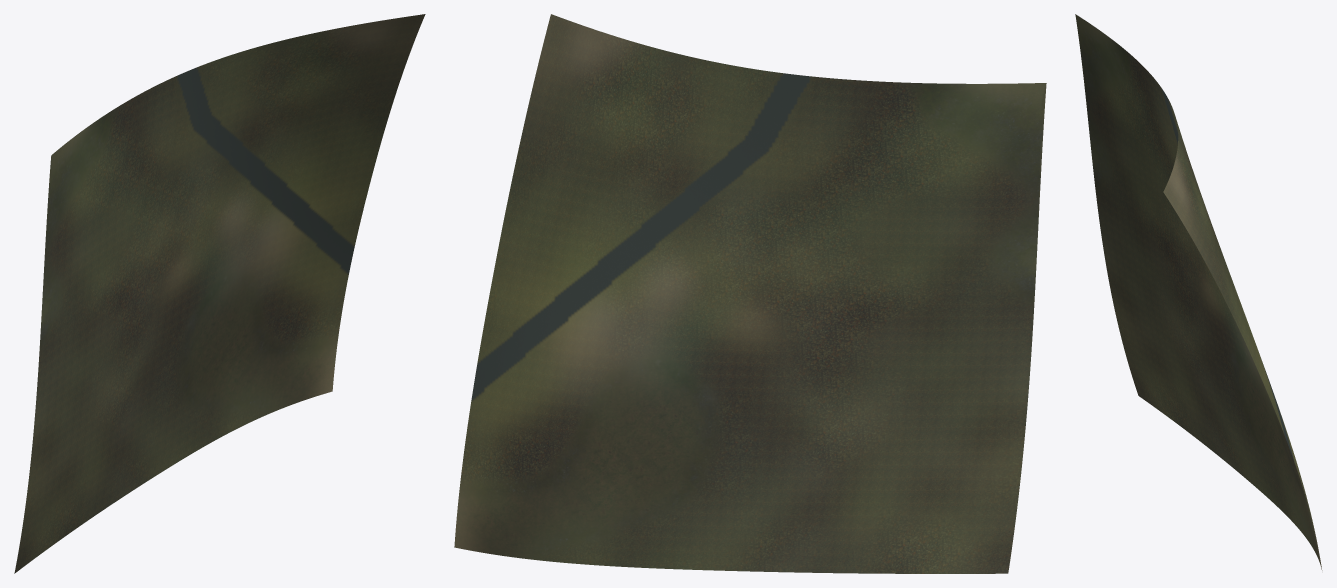
The model's file is ground_core_00_06.obj.
3 views of the same model, side by side, from view 1: azimuth 30°, elevation 25°; view 2: azimuth 150°, elevation 25°; view 3: azimuth 270°, elevation 25° (orthographic). The views are drawn at different scales.
Visible parts, largest first — view 1: ground_core_00_06; view 2: ground_core_00_06; view 3: ground_core_00_06.
Boxes of the visible parts, <box> form: ground_core_00_06: <box>14,14,425,573</box>; ground_core_00_06: <box>454,14,1046,573</box>; ground_core_00_06: <box>1075,14,1322,570</box>.
Size of the model in its own units: 50 by 50 by 29.35.
1 material, 1 textured.
